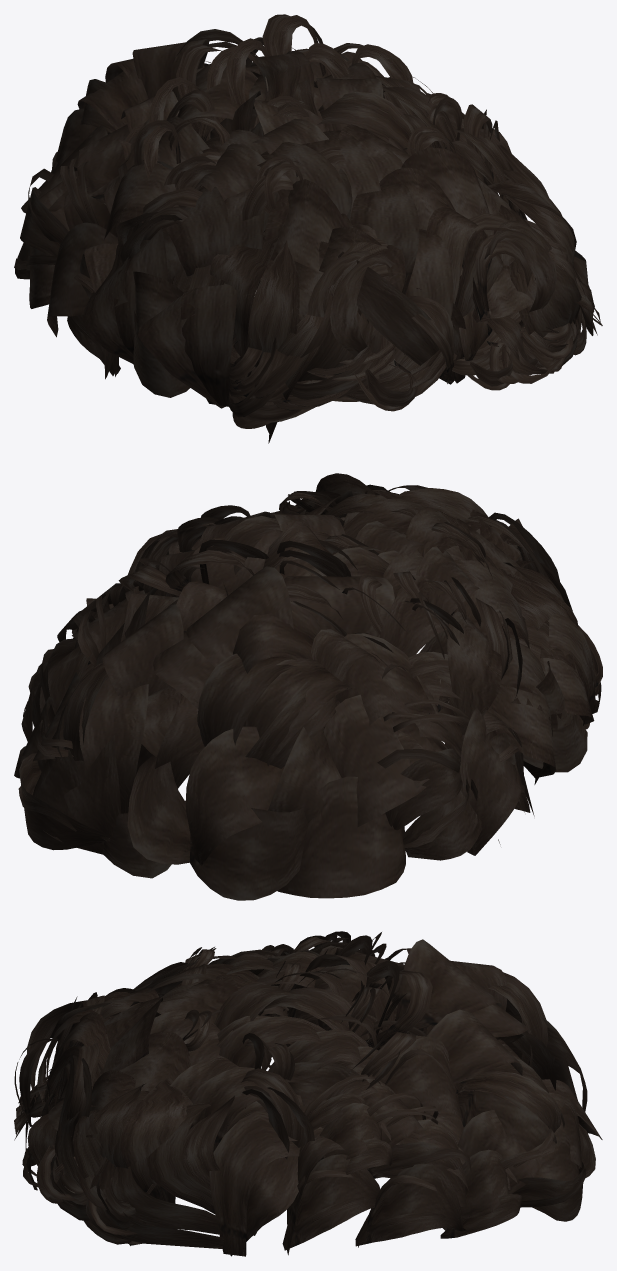
File: Oval_Curly_03.glb
3 renders of one model, top to bottom at view 1: azimuth 30°, elevation 25°; view 2: azimuth 150°, elevation 25°; view 3: azimuth 270°, elevation 25°, orthographic. The views are drawn at different scales.
Parts seen in each view (by area): view 1: oval curly 03 taper fade_; view 2: oval curly 03 taper fade_; view 3: oval curly 03 taper fade_.
Part boxes in pixels (box(x1,y1,x2,y2)): oval curly 03 taper fade_: box(14, 14, 602, 443); oval curly 03 taper fade_: box(14, 473, 602, 900); oval curly 03 taper fade_: box(14, 931, 602, 1256).
Size of the model in its own units: 0.19 by 0.1097 by 0.2392.
1 material, 1 textured.
